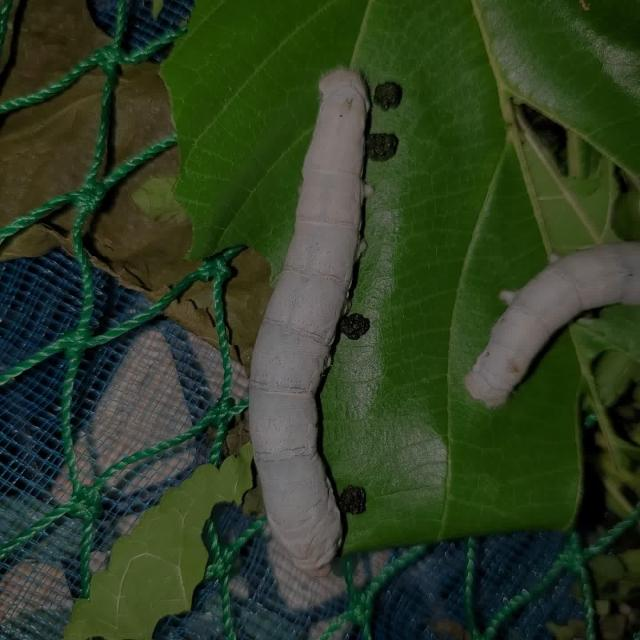Healthy: (224, 53, 410, 588)
